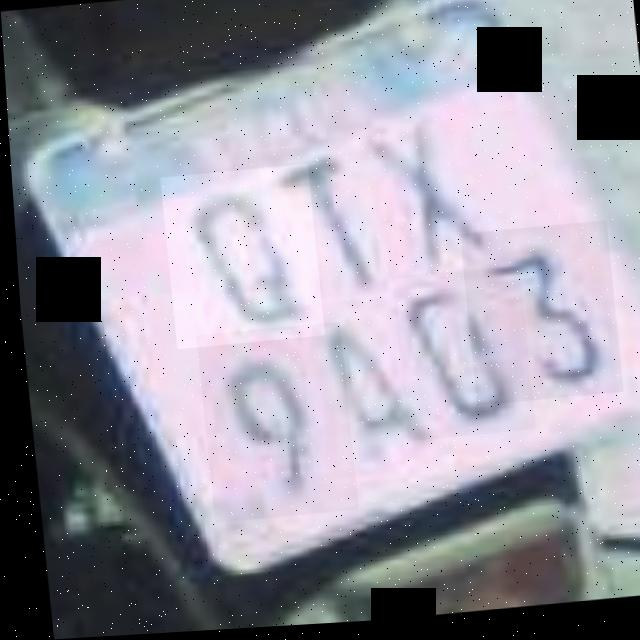0: (386, 270, 529, 446)
3: (455, 227, 618, 411)
9: (190, 325, 351, 525)
A: (292, 292, 444, 489)
O: (156, 167, 320, 351)
T: (254, 140, 400, 311)
